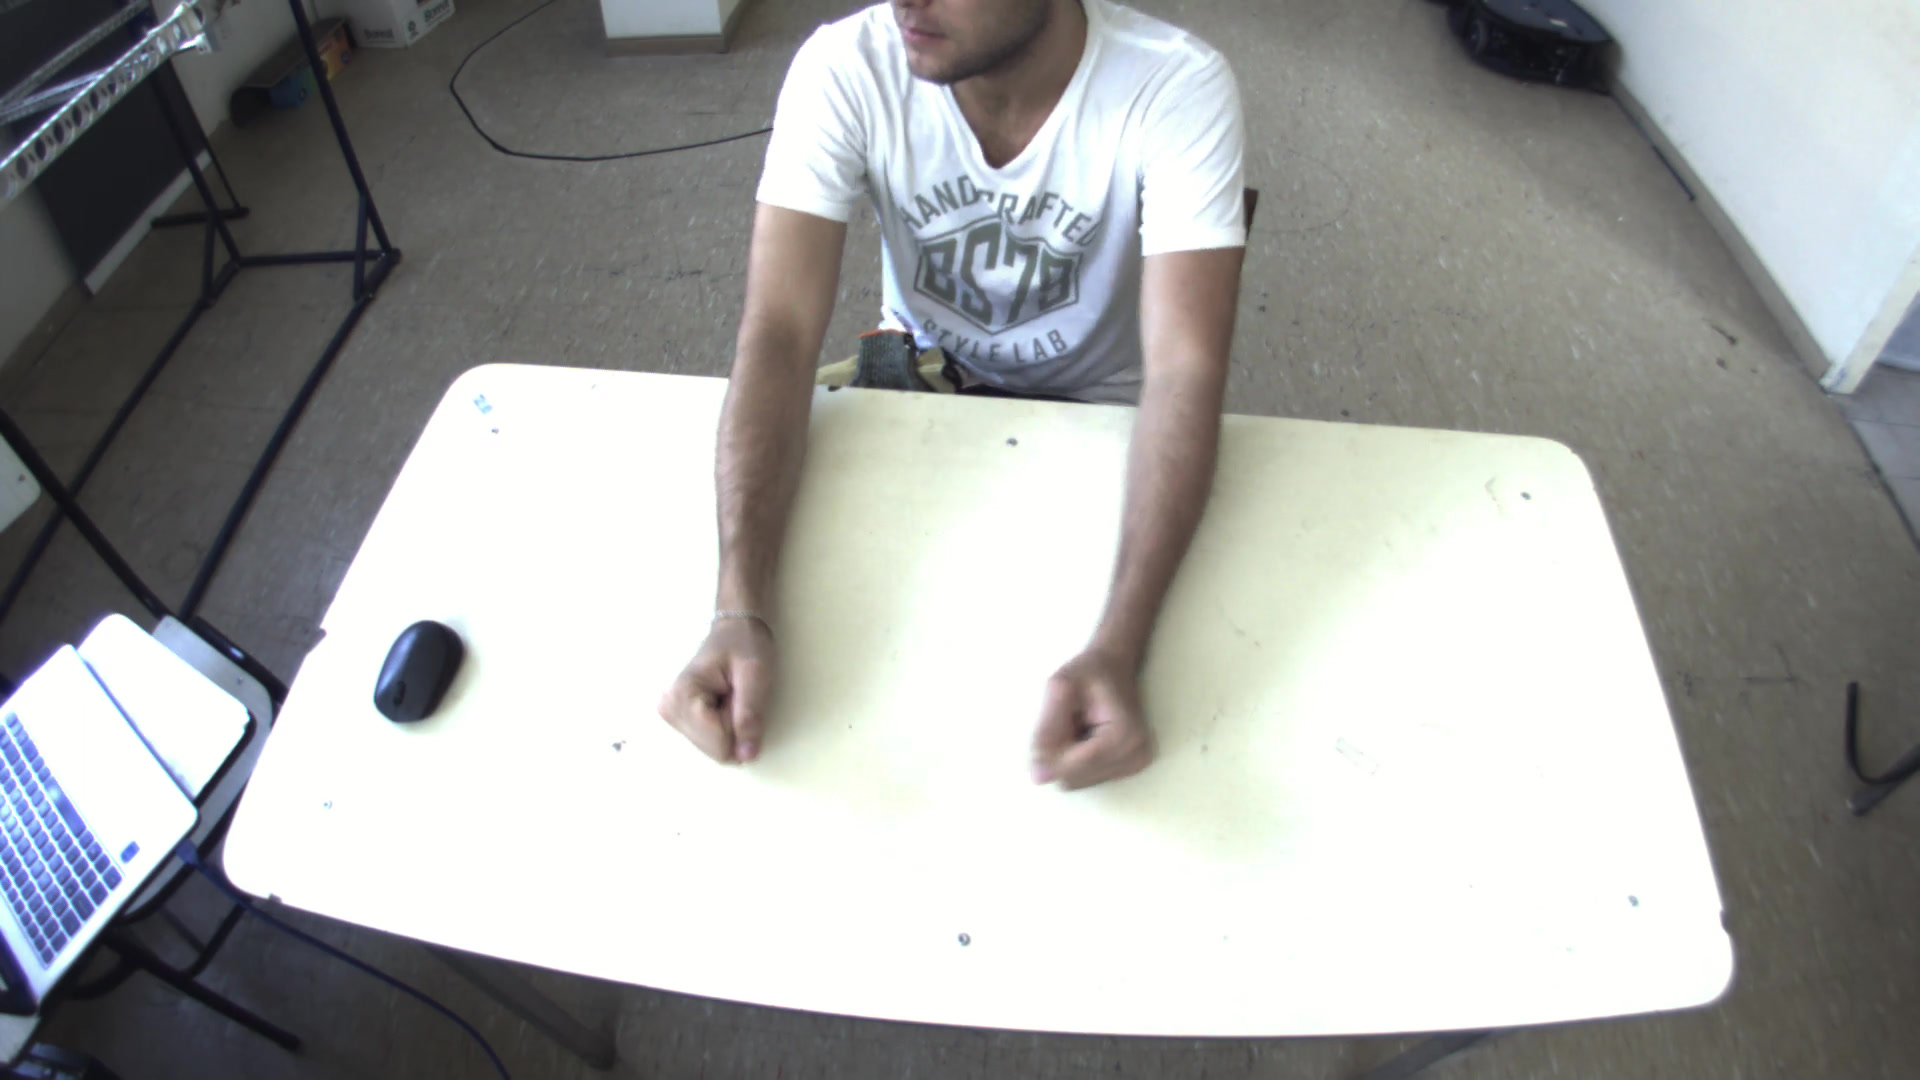hand: (647, 593, 785, 774), (1021, 649, 1168, 800)
